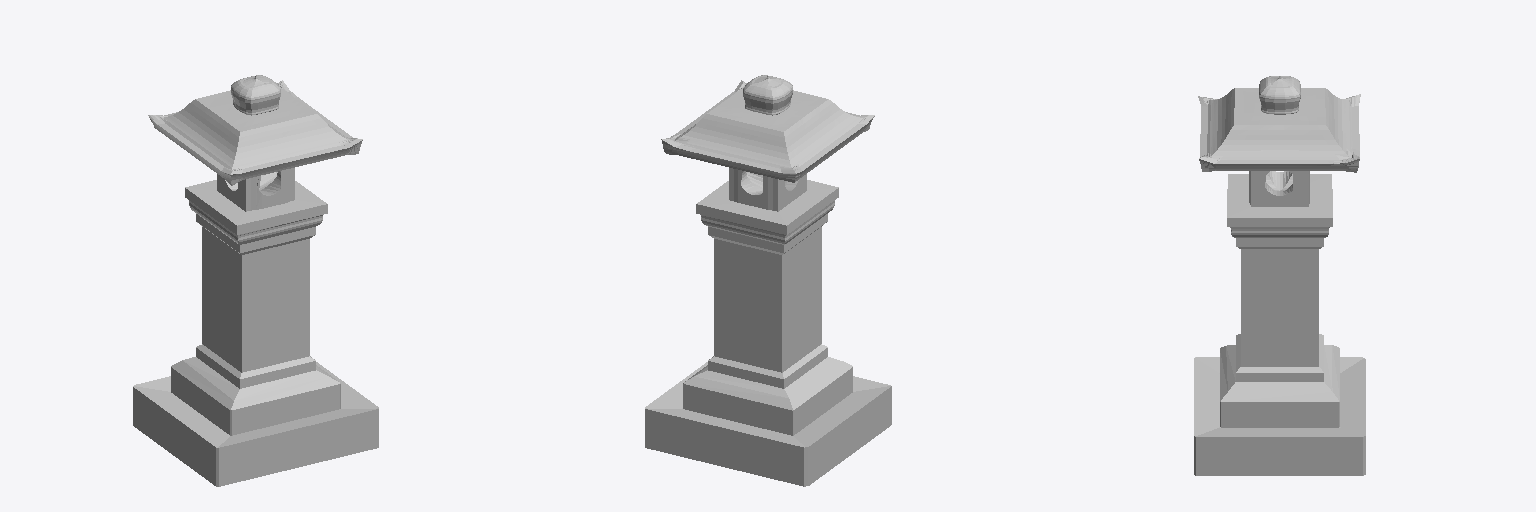
File: lantern.obj
3 renders of one model, left to right at view 1: azimuth 30°, elevation 25°; view 2: azimuth 150°, elevation 25°; view 3: azimuth 270°, elevation 25°, orthographic.
Visible parts, largest first — view 1: Cube_Cube.001; view 2: Cube_Cube.001; view 3: Cube_Cube.001.
Part boxes in pixels (x1,y1,x2,y2): Cube_Cube.001: (133, 75, 378, 486); Cube_Cube.001: (645, 75, 891, 486); Cube_Cube.001: (1194, 76, 1365, 475).
Size of the model in its own units: 3.19 by 6.73 by 2.9.